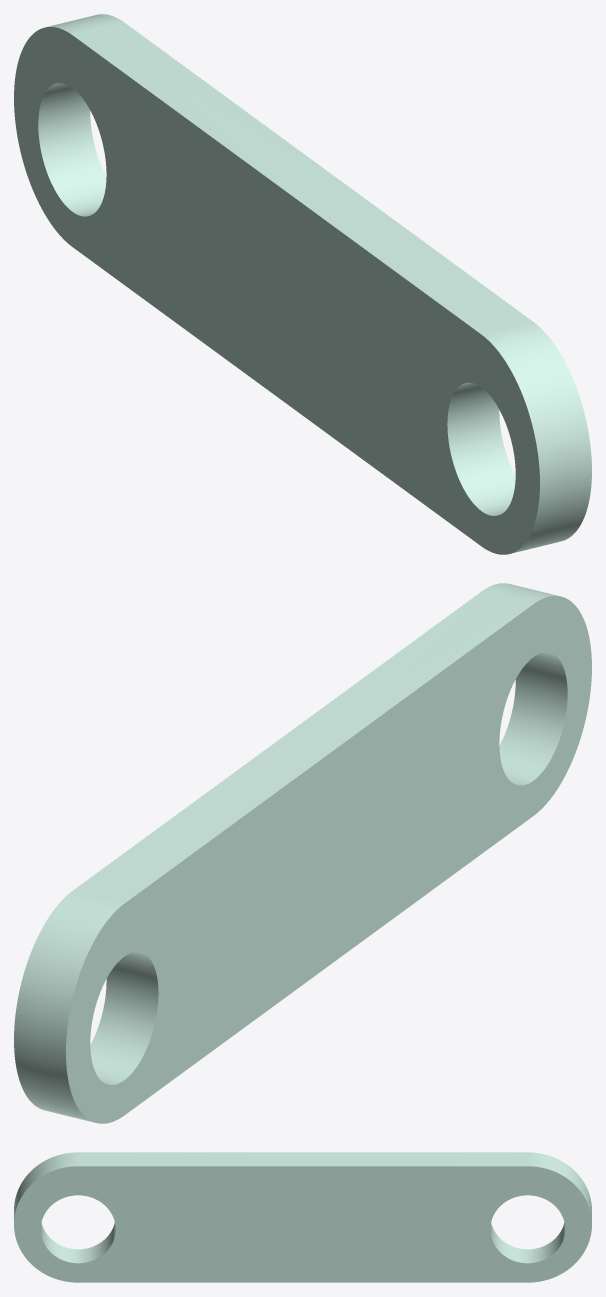
3 views of the same model, one above another, from view 1: azimuth 30°, elevation 25°; view 2: azimuth 150°, elevation 25°; view 3: azimuth 270°, elevation 25° (orthographic). The views are drawn at different scales.
Visible parts, largest first — view 1: Renderer Node; view 2: Renderer Node; view 3: Renderer Node.
Boxes of the visible parts, x1,y1,x2,y2 form: Renderer Node: (14,14,591,554); Renderer Node: (14,583,591,1123); Renderer Node: (14,1152,591,1282).
Size of the model in its own units: 0.0938 by 0.3651 by 1.64.
